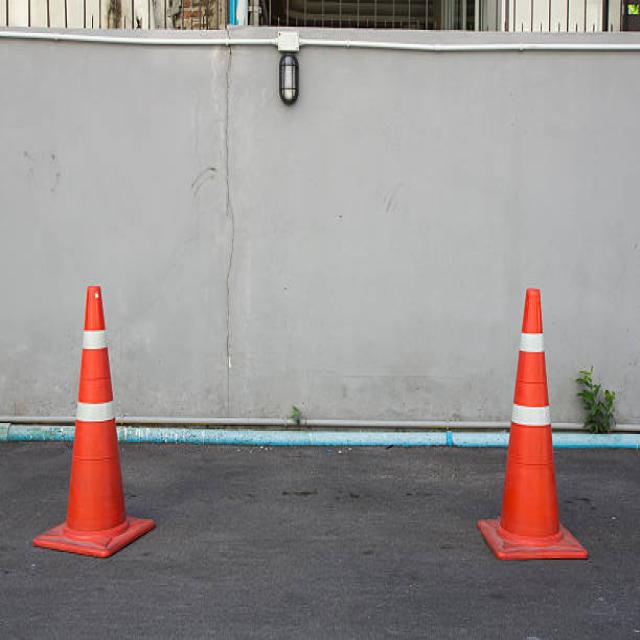Traffic Cone: (30, 259, 162, 573), (476, 267, 598, 578)
